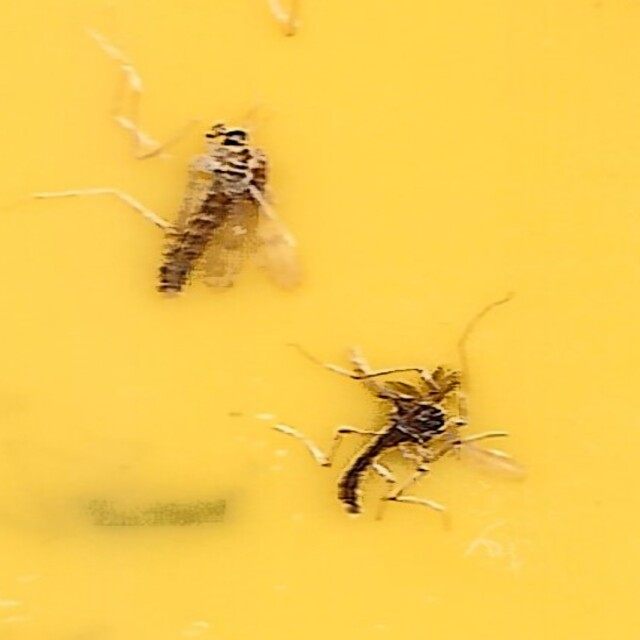Nematocera: (150, 116, 316, 304), (332, 362, 490, 524)
